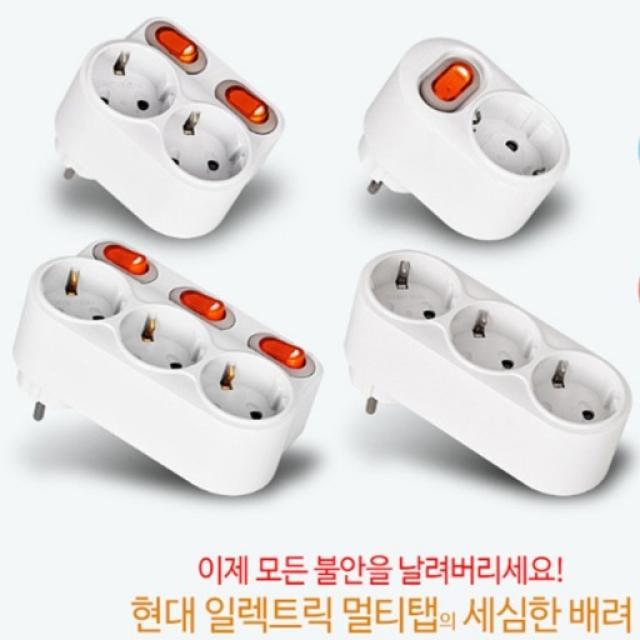typeb: (19, 238, 361, 518), (340, 254, 640, 514), (363, 23, 595, 266), (42, 11, 314, 210)
